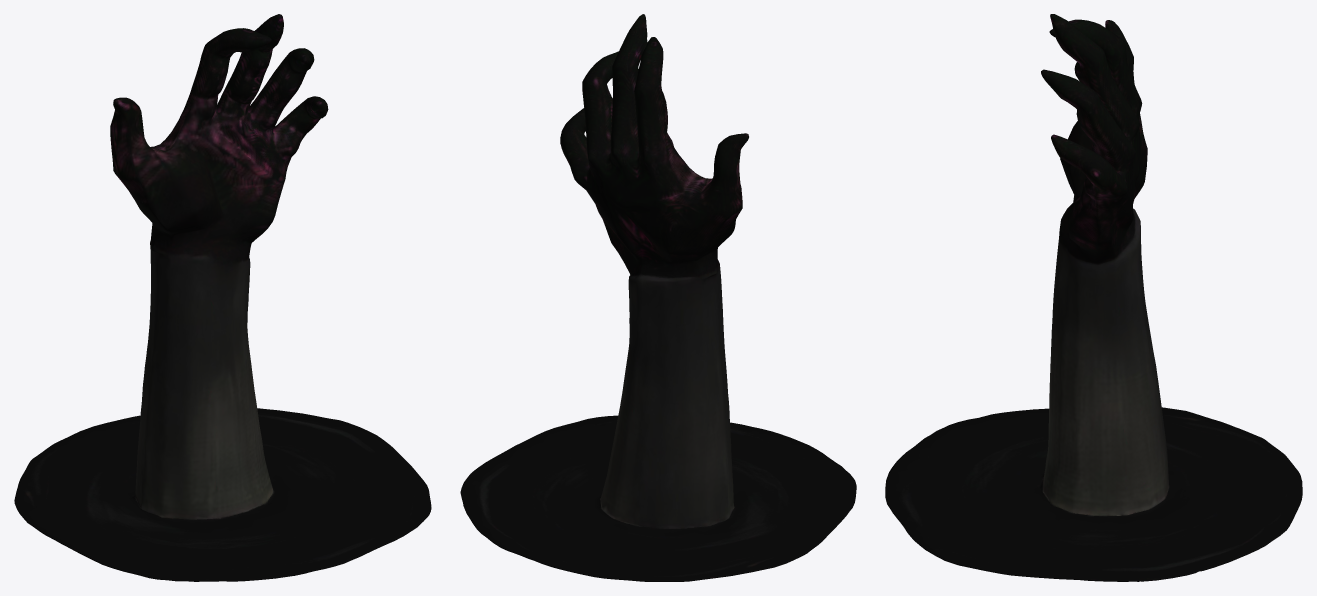
Rendered from hand.glb.
3 views of the same model, side by side, from view 1: azimuth 30°, elevation 25°; view 2: azimuth 150°, elevation 25°; view 3: azimuth 270°, elevation 25° (orthographic). The views are drawn at different scales.
Parts seen in each view (by area): view 1: world; view 2: world; view 3: world.
Part boxes in pixels (x1=…): world: x1=14, y1=14, x2=431, y2=581; world: x1=460, y1=14, x2=856, y2=581; world: x1=885, y1=14, x2=1302, y2=581.
Size of the model in its own units: 0.7474 by 1 by 0.7497.
1 material, 1 textured.
